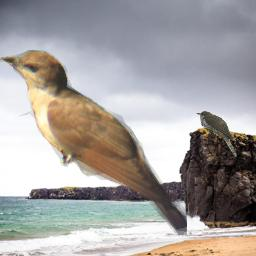Cuckoo: (0, 50, 187, 235), (196, 111, 237, 158)
